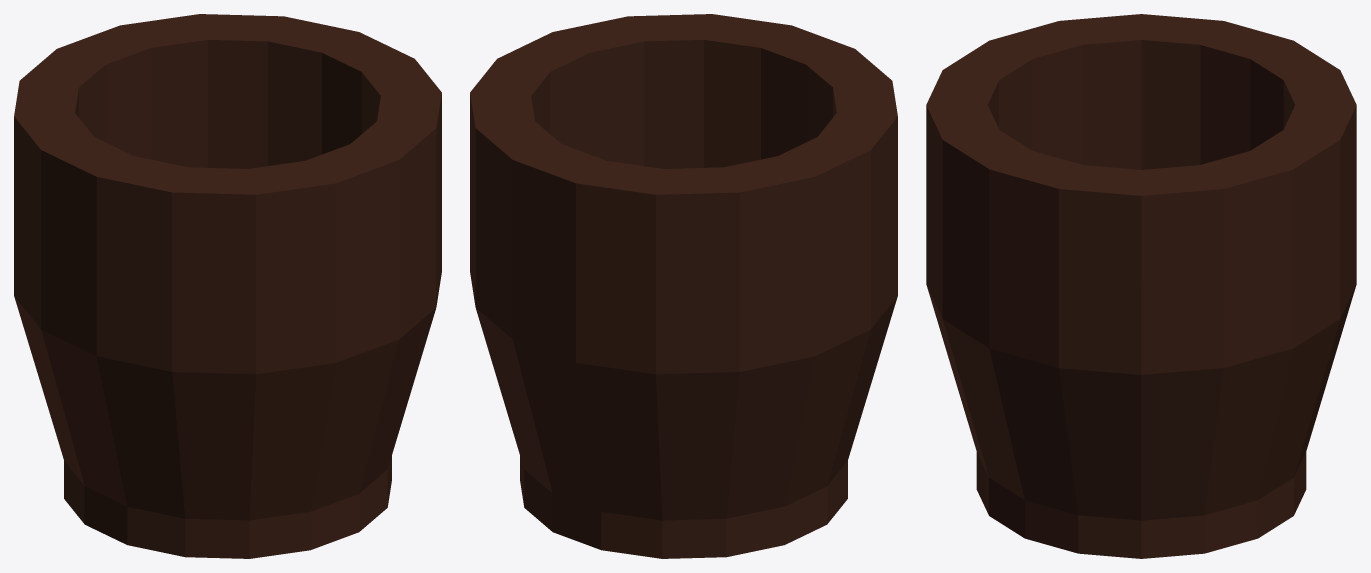
The model's file is empty.fbx.
3 renders of one model, left to right at view 1: azimuth 30°, elevation 25°; view 2: azimuth 150°, elevation 25°; view 3: azimuth 270°, elevation 25°, orthographic.
Visible parts, largest first — view 1: Cylinder.001; view 2: Cylinder.001; view 3: Cylinder.001.
Boxes of the visible parts, <box> form: Cylinder.001: <box>14,14,441,558</box>; Cylinder.001: <box>470,14,897,558</box>; Cylinder.001: <box>926,14,1356,558</box>.
Size of the model in its own units: 200 by 197 by 200.
